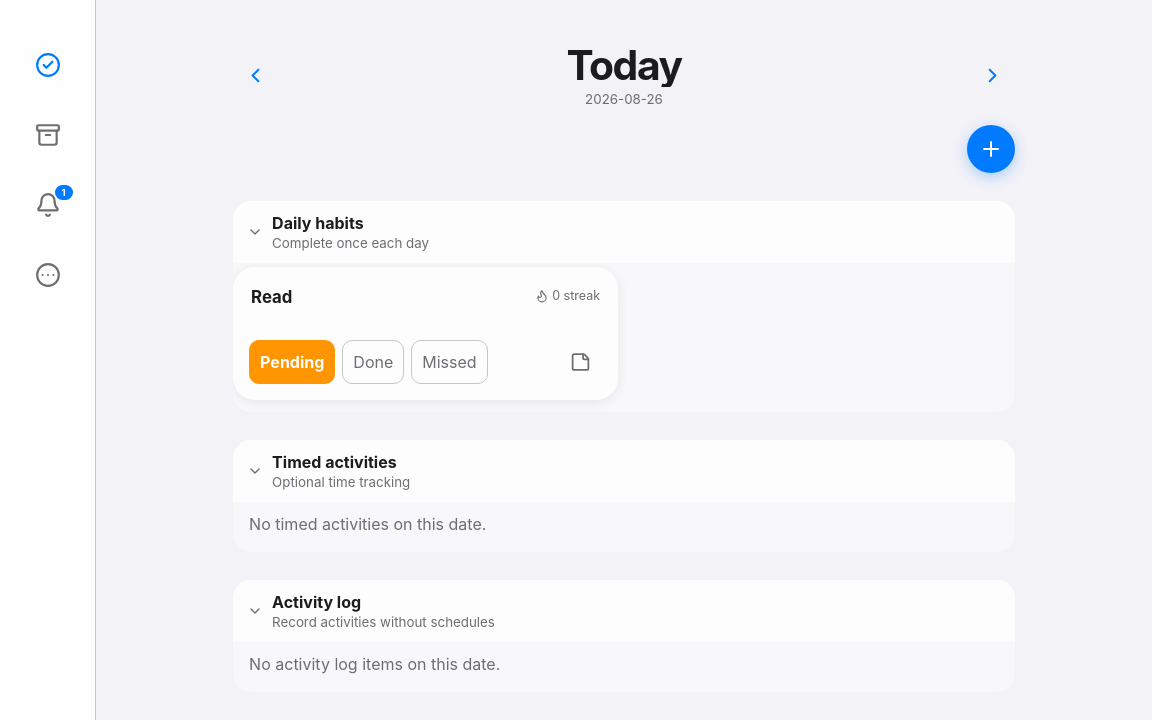
Habit Tracker › shows only three streaks initially and expands the rest on request
This screenshot has width=1152, height=720.
Step 1. Click the button with aria-label "Open Read" → (272, 297), box [249,283,602,327]
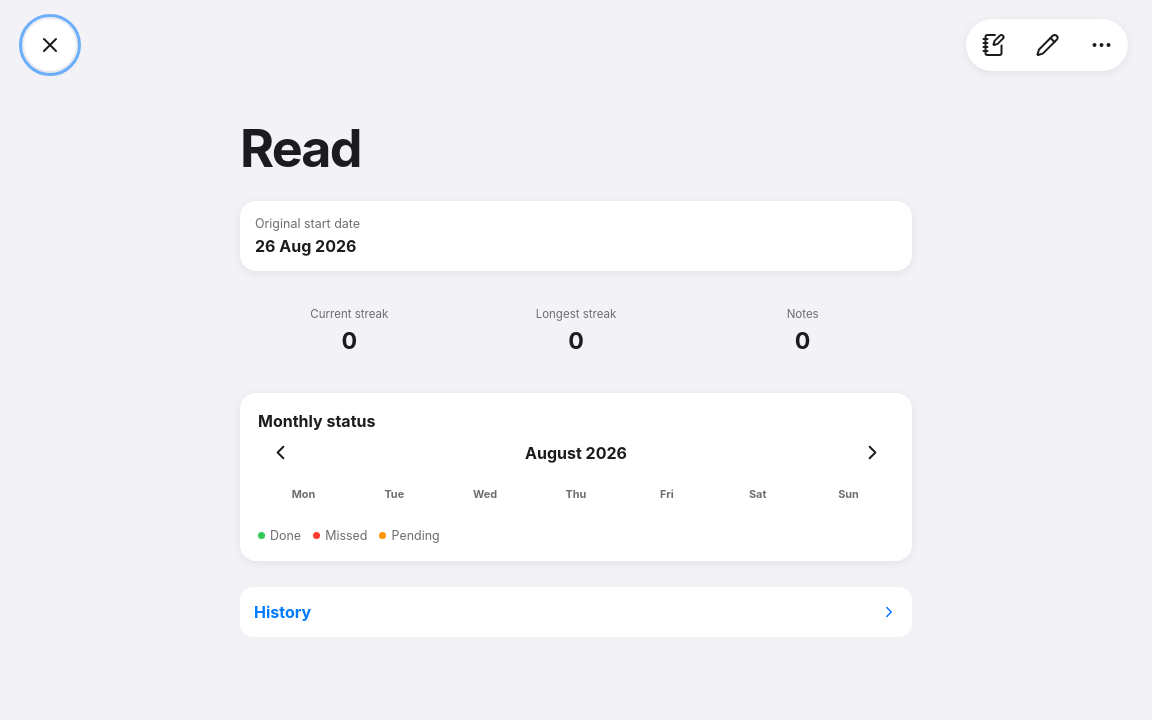
Step 2. Click the button "History" → (283, 612), box [240,587,912,637]
(page scrolled)
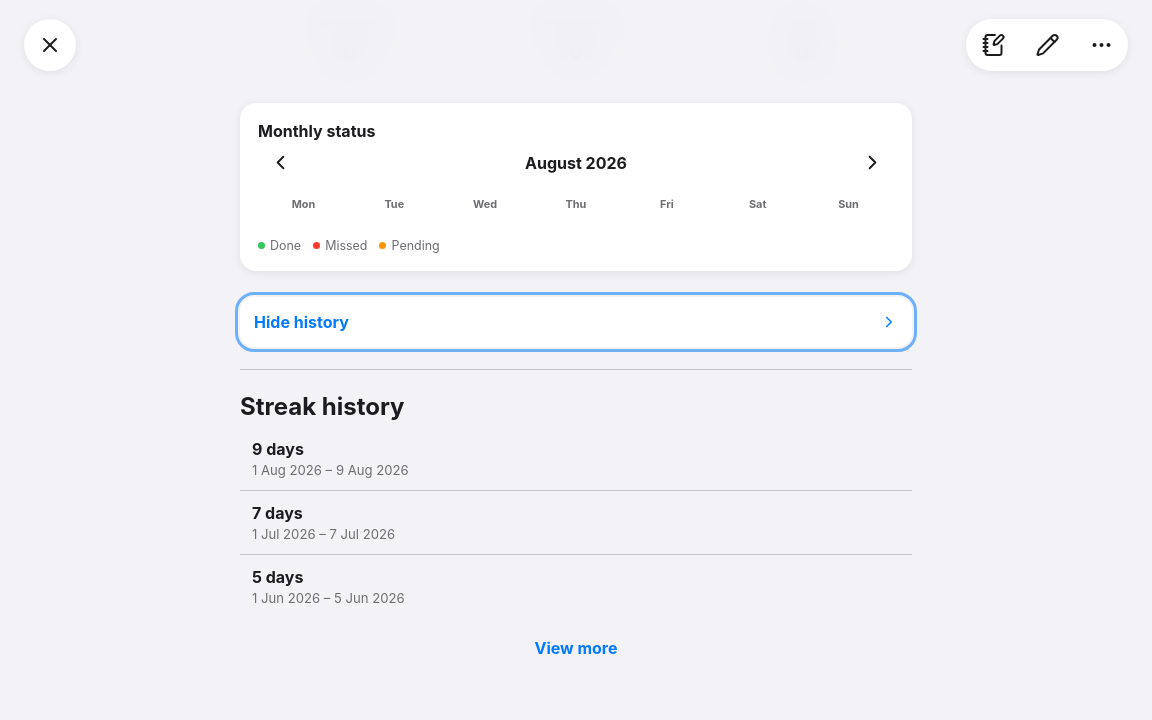
Now the text "9 days" is shown, box [252,439,304,459]
Now the text "7 days" is shown, box [252,503,303,523]
Now the text "5 days" is shown, box [252,567,303,587]
Step 3. Click the button "View more" → (576, 648), box [240,626,912,670]
(page scrolled)
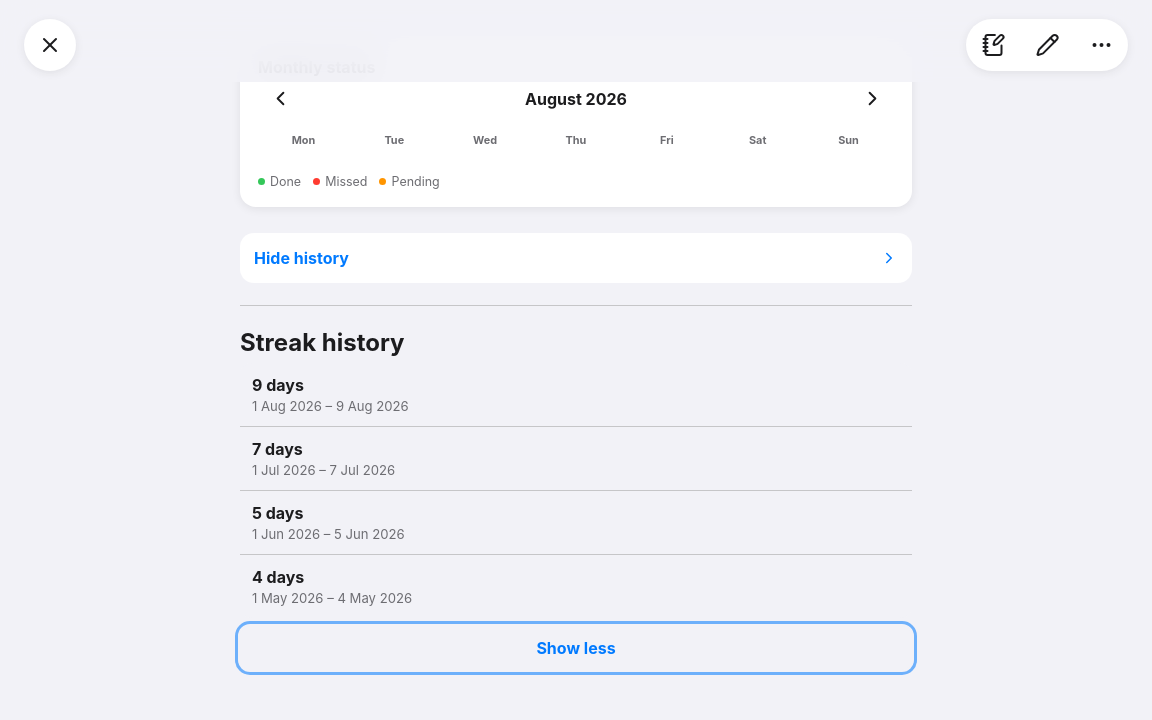
Now the text "4 days" is shown, box [252,567,304,587]
Step 4. Click the button "Show less" → (576, 648), box [240,626,912,670]
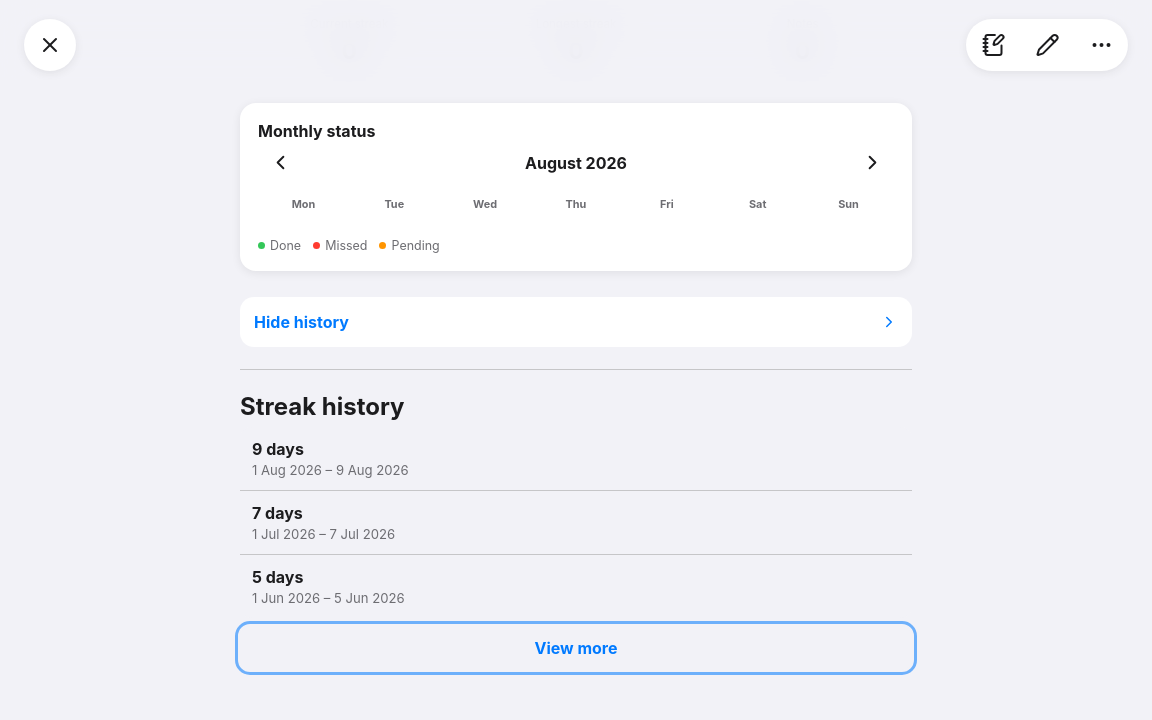
Now the text "4 days" is gone
